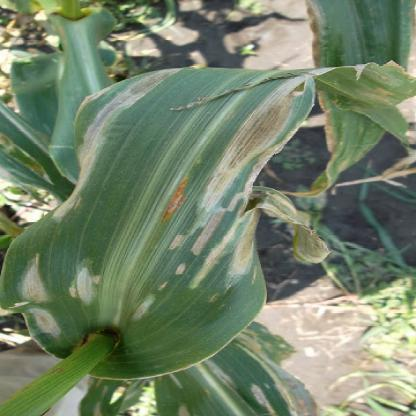Corn leaf blight: (18, 61, 409, 357)
